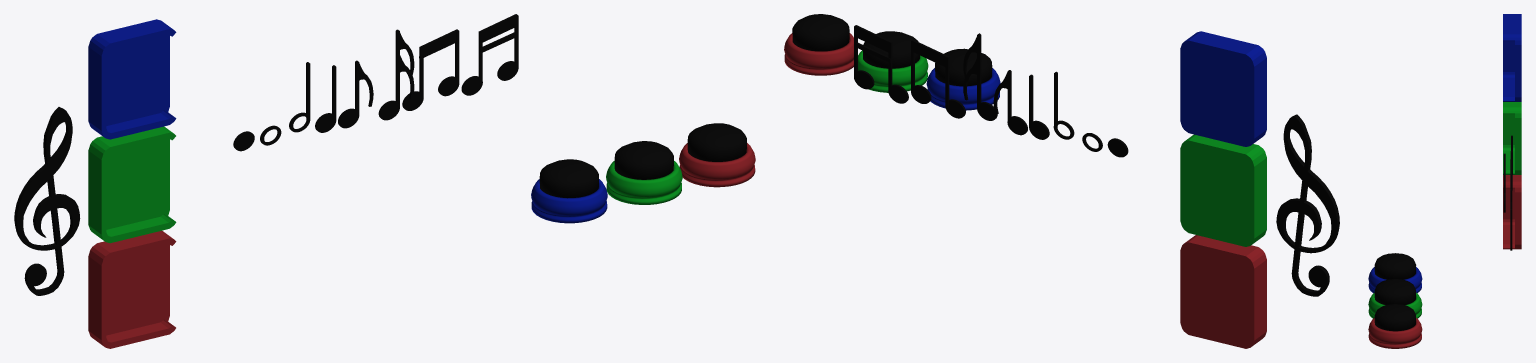
The model's file is notas musicales.fbx.
The picture shows the model from 3 angles, left to right: view 1: azimuth 30°, elevation 25°; view 2: azimuth 150°, elevation 25°; view 3: azimuth 270°, elevation 25°; orthographic projection. The views are drawn at different scales.
Parts seen in each view (by area): view 1: Cubo.011, Cubo.010, Cubo.003, Cubo.006, Cubo.013, Cubo.015, Cubo.017, Cubo.014, Cubo.012, Cubo.016, Cubo.005, Cubo.004 (+3 smaller); view 2: Cubo.011, Cubo.010, Cubo.003, Cubo.006, Cubo.017, Cubo.016, Cubo.005, Cubo.013, Cubo.004, Cubo.015, Cubo.012, Cubo.014 (+3 smaller); view 3: Cubo.011, Cubo.010, Cubo.003, Cubo.017, Cubo.016, Cubo.012, Cubo.014, Cubo.013, Cubo.015, Cubo.002, Cubo.005.
Boxes of the visible parts, x1=… form: Cubo.011: x1=88, y1=19, x2=176, y2=139; Cubo.010: x1=88, y1=230, x2=176, y2=348; Cubo.003: x1=88, y1=126, x2=176, y2=243; Cubo.006: x1=14, y1=107, x2=80, y2=295; Cubo.013: x1=531, y1=179, x2=607, y2=223; Cubo.015: x1=606, y1=161, x2=682, y2=204; Cubo.017: x1=679, y1=143, x2=755, y2=187; Cubo.014: x1=614, y1=141, x2=673, y2=179; Cubo.012: x1=539, y1=159, x2=598, y2=198; Cubo.016: x1=687, y1=123, x2=746, y2=161; Cubo.005: x1=461, y1=14, x2=518, y2=95; Cubo.004: x1=402, y1=29, x2=459, y2=110; Cubo.011: x1=1180, y1=31, x2=1266, y2=146; Cubo.010: x1=1180, y1=235, x2=1266, y2=348; Cubo.003: x1=1180, y1=134, x2=1266, y2=246; Cubo.006: x1=1276, y1=114, x2=1339, y2=296; Cubo.017: x1=784, y1=33, x2=853, y2=75; Cubo.016: x1=792, y1=14, x2=849, y2=51; Cubo.005: x1=854, y1=25, x2=908, y2=103; Cubo.013: x1=926, y1=68, x2=1000, y2=110; Cubo.004: x1=911, y1=39, x2=965, y2=118; Cubo.015: x1=858, y1=50, x2=928, y2=92; Cubo.012: x1=935, y1=48, x2=992, y2=86; Cubo.014: x1=863, y1=31, x2=919, y2=68; Cubo.011: x1=1503, y1=14, x2=1521, y2=101; Cubo.010: x1=1503, y1=175, x2=1521, y2=249; Cubo.003: x1=1503, y1=102, x2=1521, y2=174; Cubo.017: x1=1368, y1=318, x2=1422, y2=348; Cubo.016: x1=1374, y1=304, x2=1415, y2=331; Cubo.012: x1=1374, y1=253, x2=1416, y2=279; Cubo.014: x1=1374, y1=279, x2=1415, y2=304; Cubo.013: x1=1368, y1=267, x2=1422, y2=293; Cubo.015: x1=1368, y1=292, x2=1422, y2=318; Cubo.002: x1=1503, y1=153, x2=1505, y2=212; Cubo.005: x1=1510, y1=202, x2=1512, y2=250.
Bounding box in the file's own units: 1698 × 759 × 491.
